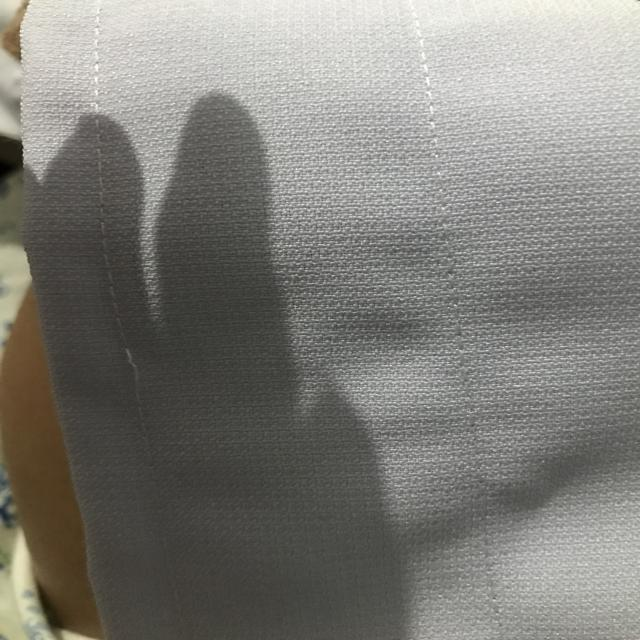good: (92, 147, 130, 279)
skip: (101, 330, 173, 408)
